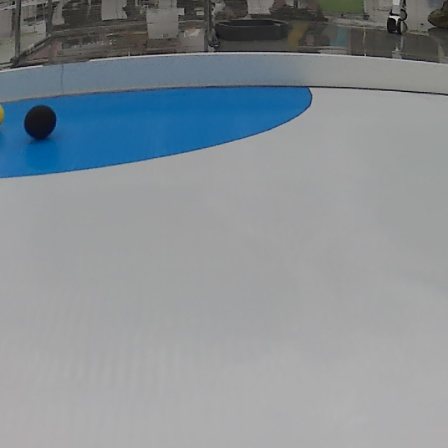black: (25, 104, 59, 139)
blue_base: (0, 85, 314, 177)
